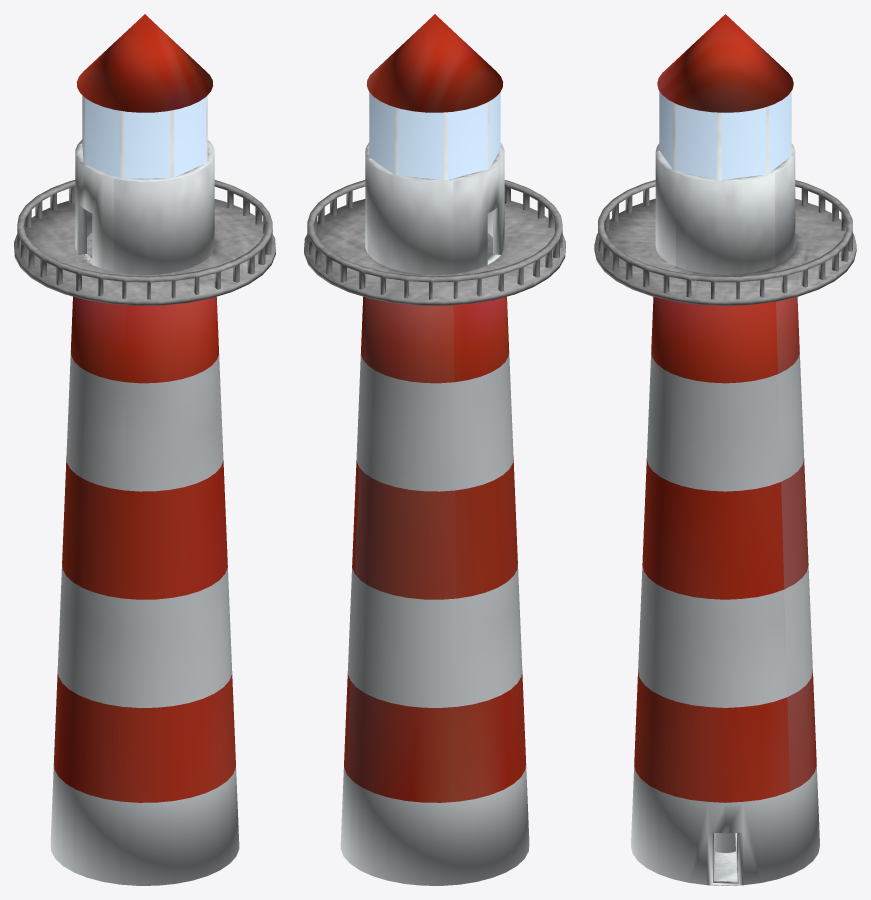
File: lighthouse.fbx
3 renders of one model, left to right at view 1: azimuth 30°, elevation 25°; view 2: azimuth 150°, elevation 25°; view 3: azimuth 270°, elevation 25°, orthographic.
Visible parts, largest first — view 1: lighthouse, top of lighthouse, top, Cone; view 2: lighthouse, top of lighthouse, top, Cone; view 3: lighthouse, top of lighthouse, top, Cone.
Boxes of the visible parts, bbox=[...] form: lighthouse: bbox=[50, 254, 239, 885]; top of lighthouse: bbox=[75, 95, 214, 274]; top: bbox=[14, 180, 275, 305]; Cone: bbox=[76, 14, 213, 112]; lighthouse: bbox=[340, 254, 529, 885]; top of lighthouse: bbox=[365, 92, 504, 274]; top: bbox=[304, 180, 565, 305]; Cone: bbox=[366, 14, 503, 112]; lighthouse: bbox=[631, 297, 819, 885]; top of lighthouse: bbox=[655, 91, 795, 274]; top: bbox=[594, 180, 856, 305]; Cone: bbox=[657, 14, 793, 112].
Size of the model in its own units: 2773 by 9700 by 2773.
